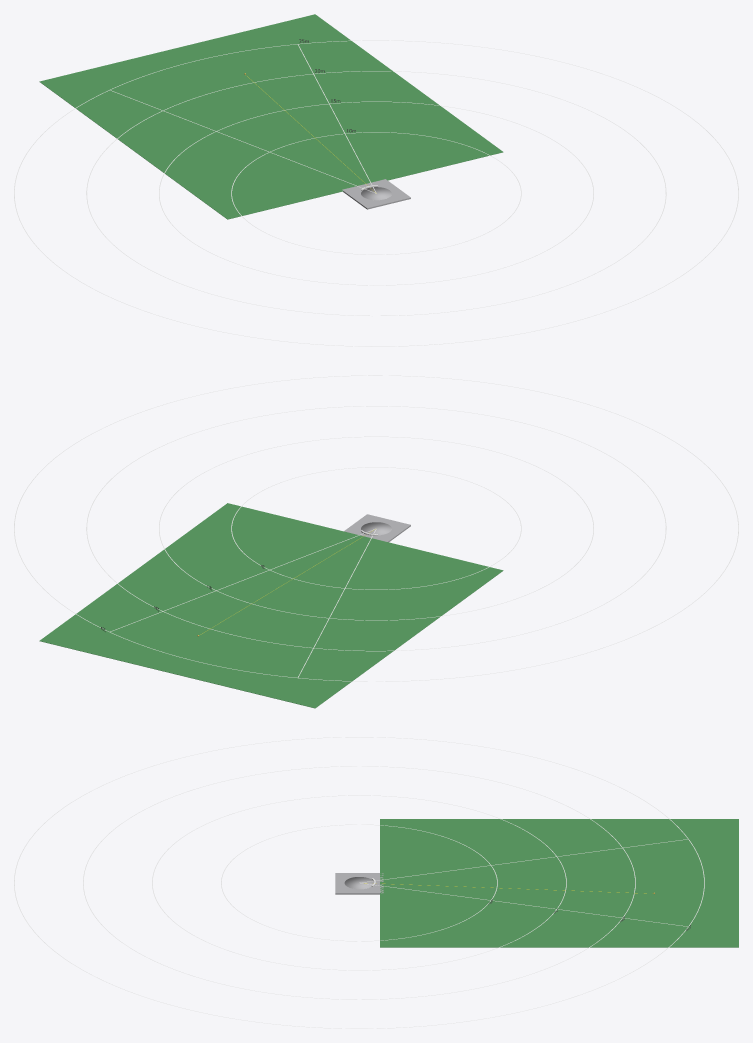
The model's file is Shot Put Setup.glb.
The picture shows the model from 3 angles, top to bottom: view 1: azimuth 30°, elevation 25°; view 2: azimuth 150°, elevation 25°; view 3: azimuth 270°, elevation 25°; orthographic projection. The views are drawn at different scales.
Visible parts, largest first — view 1: SP_Landing_Field, SP_Arc_25m, SP_Arc_20m, SP_Arc_15m, SP_Base_Pad, SP_Arc_10m; view 2: SP_Landing_Field, SP_Arc_25m, SP_Arc_20m, SP_Arc_15m, SP_Base_Pad, SP_Arc_10m; view 3: SP_Landing_Field, SP_Arc_25m, SP_Arc_20m, SP_Arc_15m, SP_Base_Pad, SP_Arc_10m.
Part boxes in pixels (x1,y1,x2,y2): SP_Landing_Field: [39, 14, 503, 219]; SP_Arc_25m: [14, 40, 738, 346]; SP_Arc_20m: [86, 71, 666, 316]; SP_Arc_15m: [159, 101, 593, 285]; SP_Base_Pad: [342, 179, 410, 209]; SP_Arc_10m: [231, 132, 521, 254]; SP_Landing_Field: [39, 503, 503, 708]; SP_Arc_25m: [14, 375, 738, 681]; SP_Arc_20m: [86, 406, 666, 651]; SP_Arc_15m: [159, 436, 593, 620]; SP_Base_Pad: [344, 514, 410, 542]; SP_Arc_10m: [231, 467, 521, 589]; SP_Landing_Field: [380, 819, 738, 947]; SP_Arc_25m: [14, 737, 704, 1028]; SP_Arc_20m: [83, 766, 635, 999]; SP_Arc_15m: [152, 795, 566, 970]; SP_Base_Pad: [335, 873, 383, 894]; SP_Arc_10m: [221, 824, 497, 941].
Bounding box in the file's own units: 50.05 × 0.3864 × 52.52.
